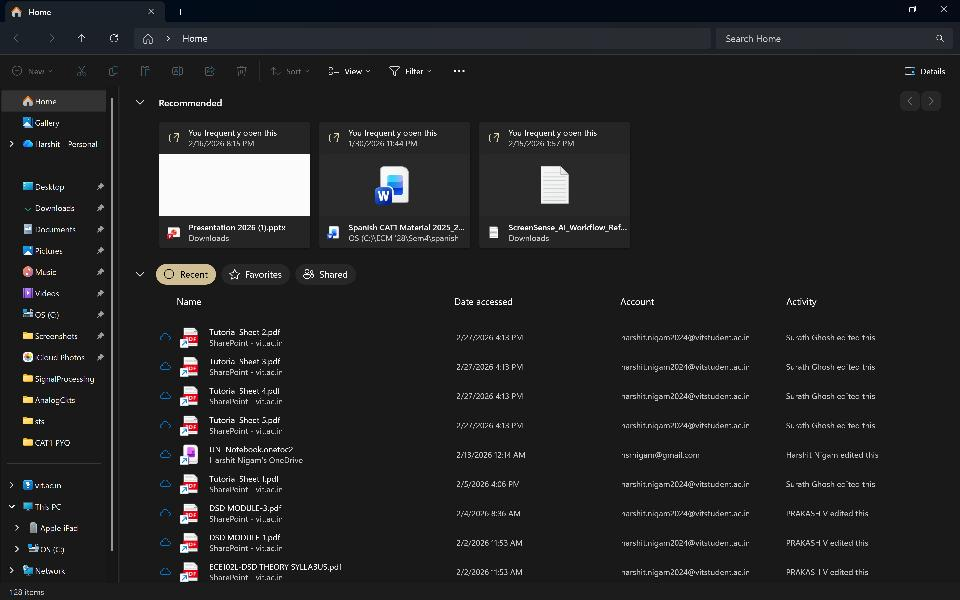close_button: (935, 1, 952, 17)
maximize_button: (904, 1, 922, 18)
minimize_button: (874, 2, 893, 20)
